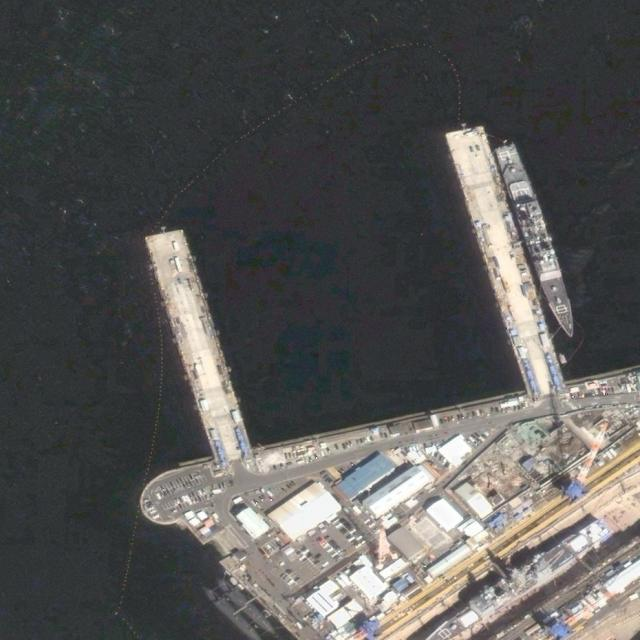Cruiser: (495, 142, 580, 342)
Dock: (442, 117, 566, 396), (142, 224, 254, 461)
